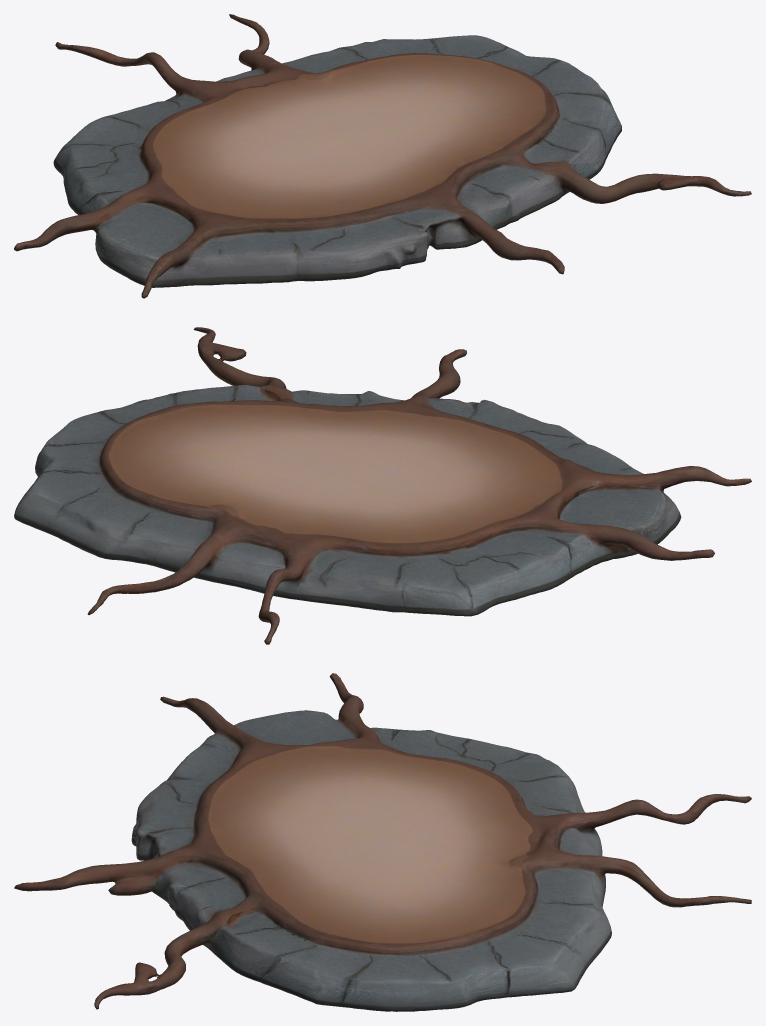
Rendered from blood_pool.glb.
3 views of the same model, one above another, from view 1: azimuth 30°, elevation 25°; view 2: azimuth 150°, elevation 25°; view 3: azimuth 270°, elevation 25° (orthographic). The views are drawn at different scales.
Bounding box in the file's own units: 2 × 0.1328 × 1.96.
Materials: 1 (1 with a texture image).
